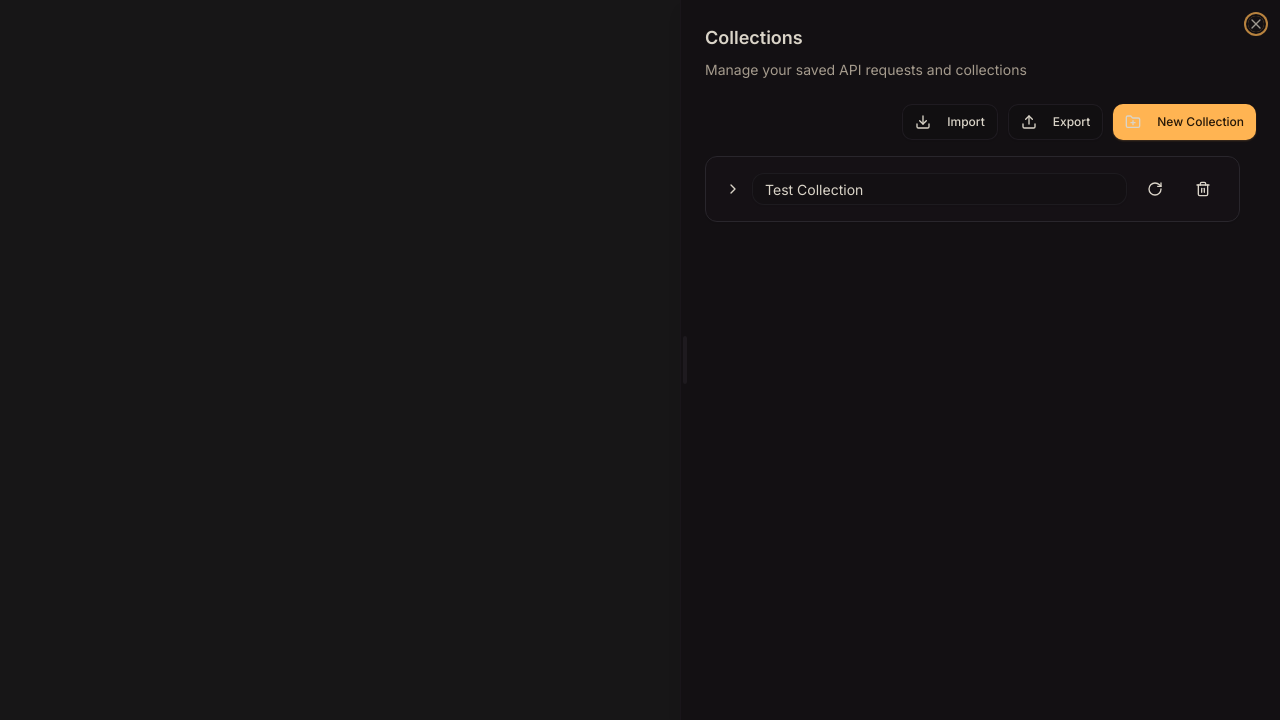
Test: CollectionsPanel OpenAPI Import › explains an HTML login-page response rather than a JSON parse error
The image size is (1280, 720).
Click the button "Import": (950, 122) left=902, top=104, right=998, bottom=140
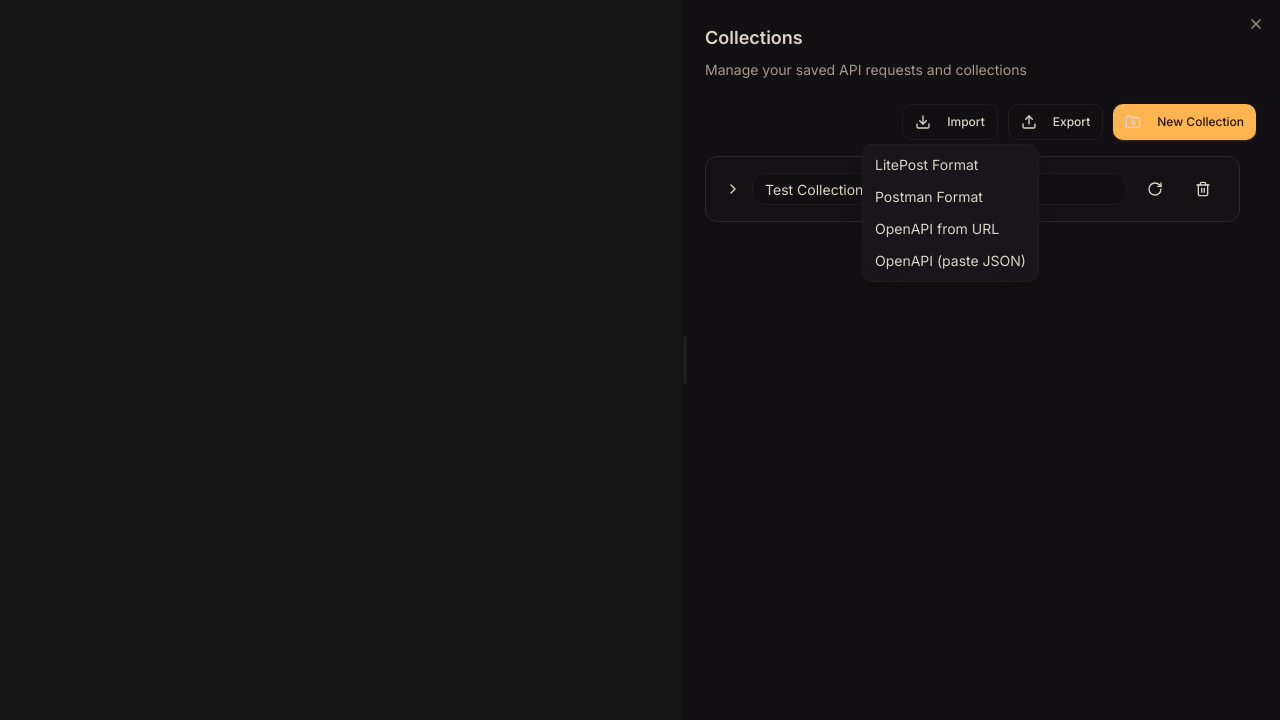
Click the menu item "OpenAPI from URL": (937, 228) left=875, top=220, right=999, bottom=237
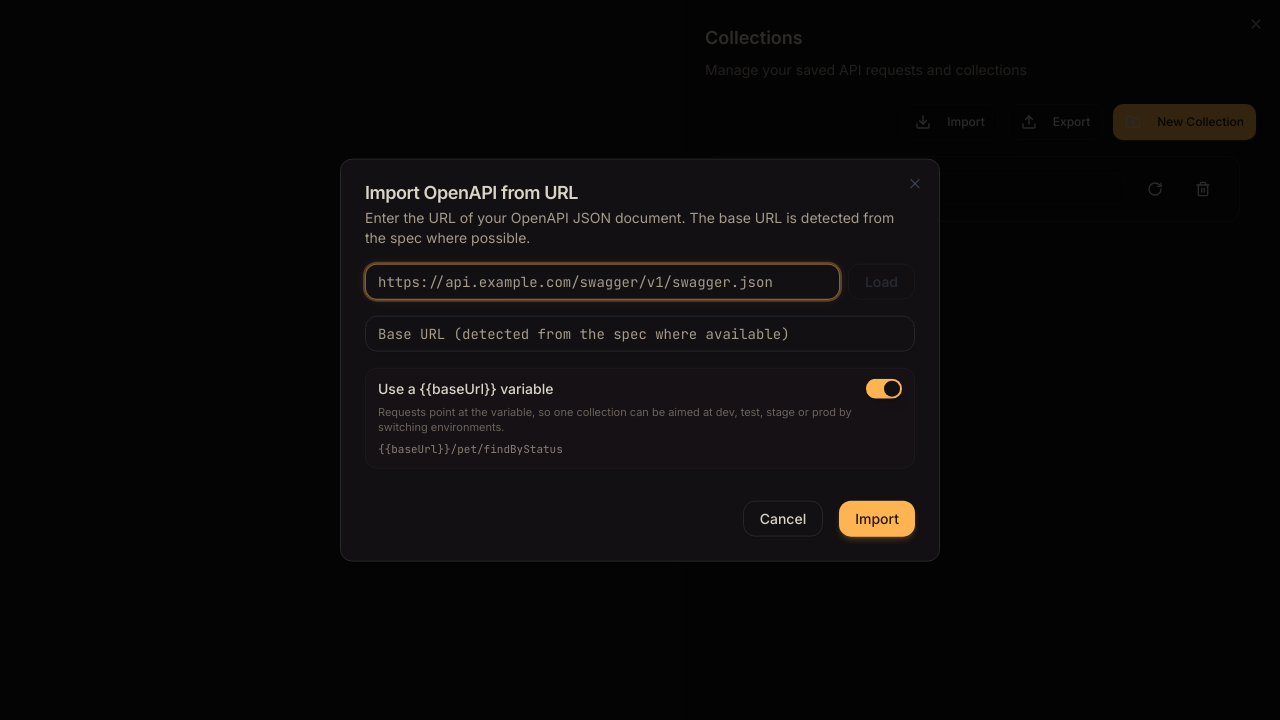
In the field with placeholder "https://api.example.com/swagger/v1/swagger.json": (602, 282) left=365, top=264, right=840, bottom=300, type "https://internal.corp/swagger/v1/swagger.json"
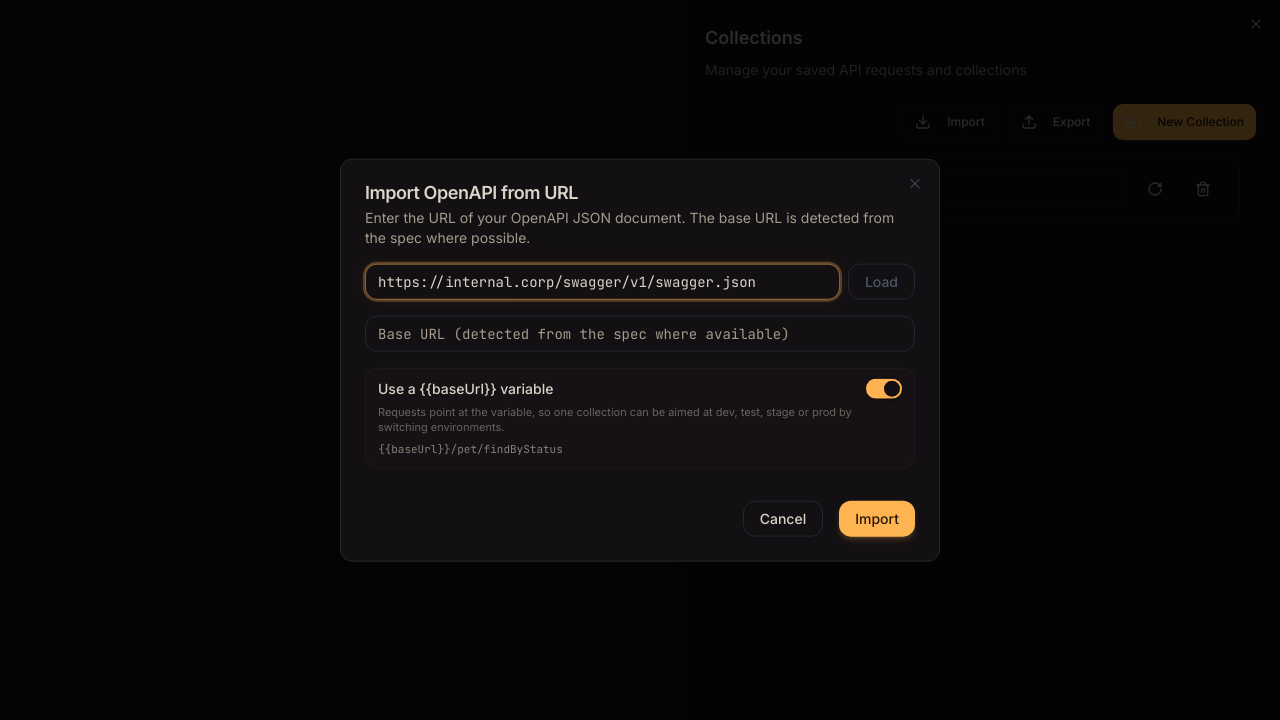
Click the button "Load": (881, 282) left=848, top=264, right=915, bottom=300
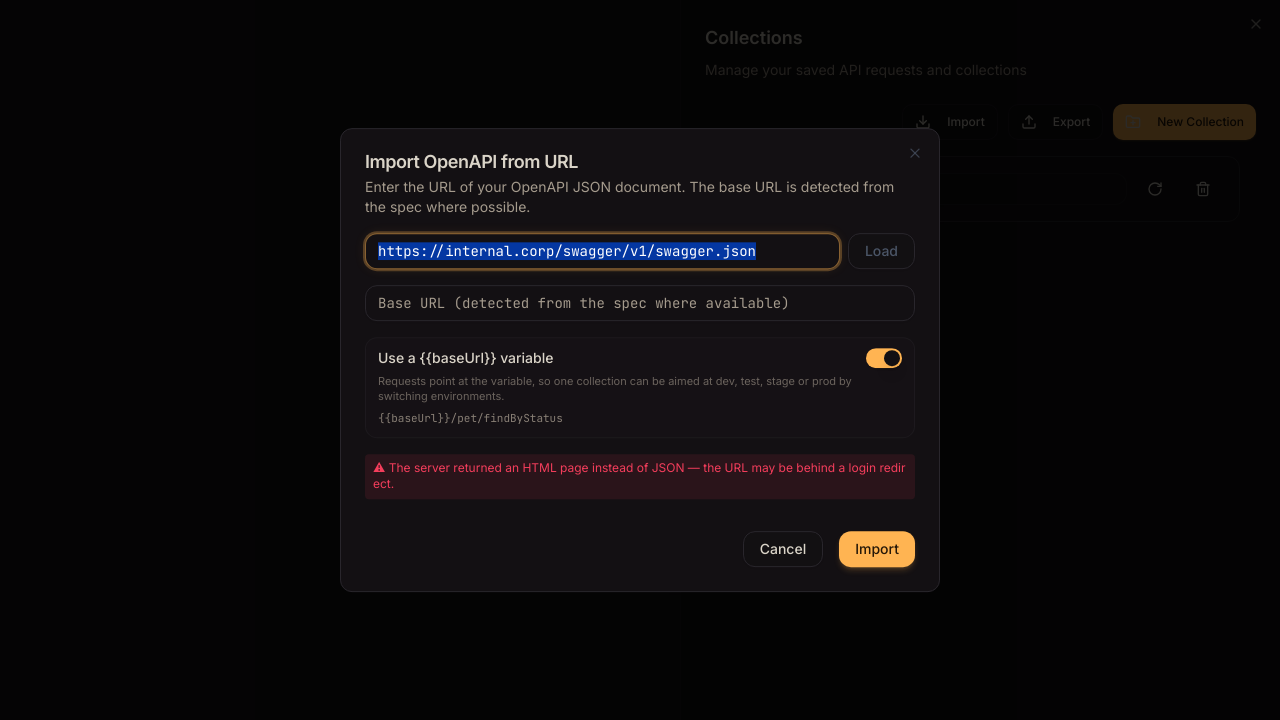
Result: the text "HTML page instead of JSON" is shown at left=373, top=460, right=906, bottom=491
